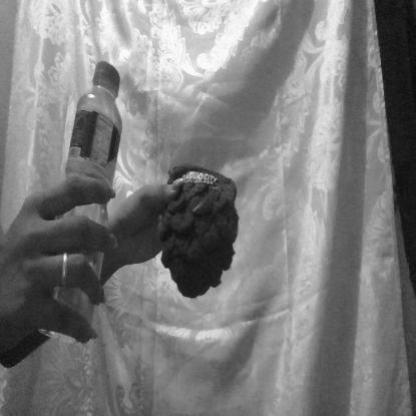Plastic Bottle: (43, 45, 137, 355)
